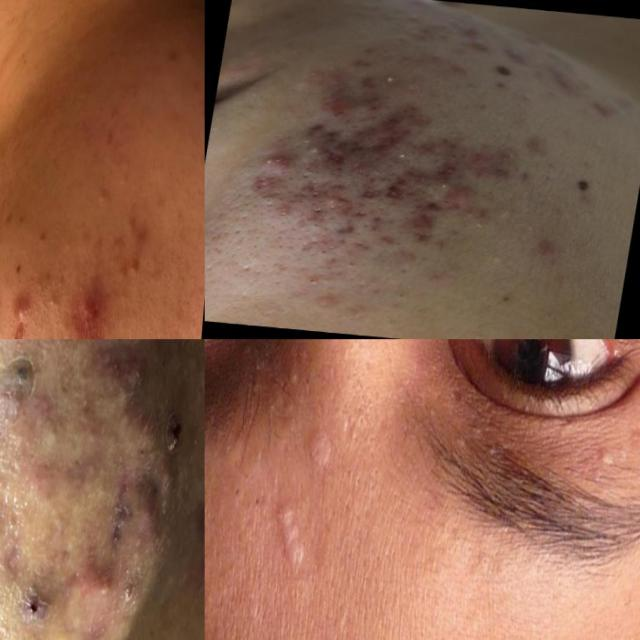8: (74, 279, 111, 339), (9, 290, 38, 324)
9: (86, 547, 120, 615)
blackheads: (287, 84, 439, 193), (396, 158, 484, 209), (12, 571, 54, 631), (4, 345, 36, 412), (158, 401, 182, 465), (104, 348, 138, 390), (133, 486, 162, 530), (260, 148, 296, 178), (7, 317, 31, 339)
dark spot: (219, 465, 245, 516), (246, 471, 268, 518), (89, 179, 112, 220), (461, 145, 495, 170), (286, 268, 324, 288), (420, 67, 450, 92), (382, 278, 410, 302), (116, 164, 131, 200), (54, 259, 71, 290), (252, 189, 280, 207), (310, 242, 333, 261), (45, 284, 57, 316), (334, 258, 363, 270)
